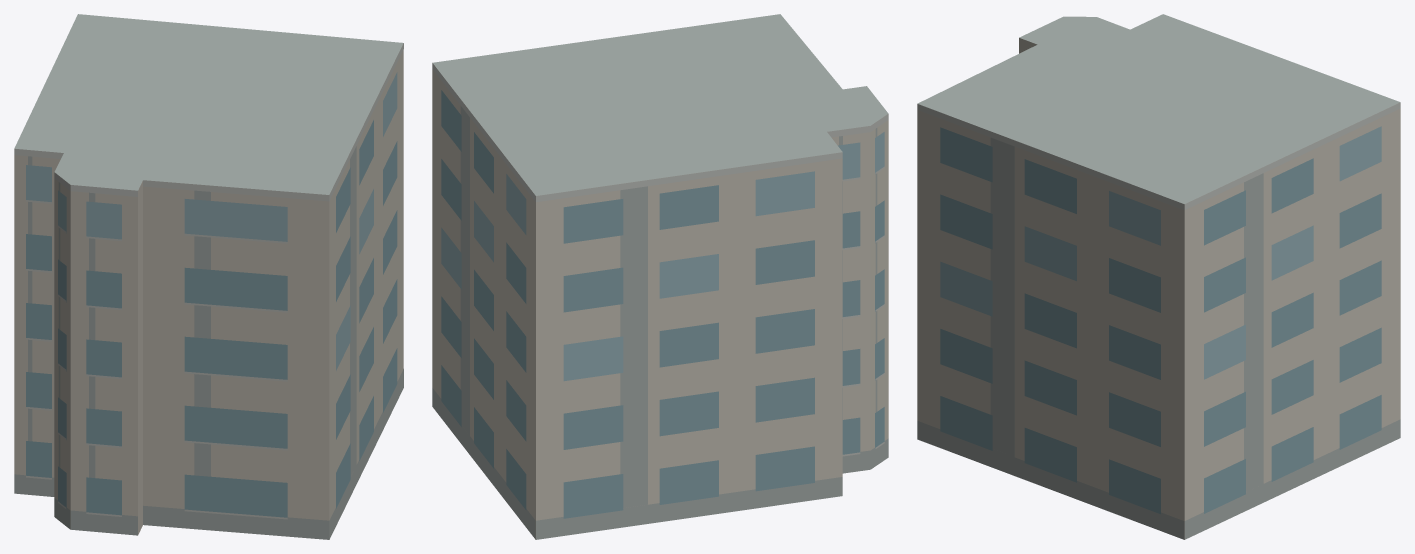
The model's file is survey-upis-33006724.glb.
3 renders of one model, left to right at view 1: azimuth 30°, elevation 25°; view 2: azimuth 150°, elevation 25°; view 3: azimuth 270°, elevation 25°, orthographic. The views are drawn at different scales.
Visible parts, largest first — view 1: survey-upis-33006724.tmp; view 2: survey-upis-33006724.tmp; view 3: survey-upis-33006724.tmp.
Part boxes in pixels (x1,y1,x2,y2): survey-upis-33006724.tmp: [14, 14, 403, 539]; survey-upis-33006724.tmp: [432, 14, 888, 539]; survey-upis-33006724.tmp: [917, 14, 1400, 539].
Size of the model in its own units: 16.17 by 13.3 by 17.37.
